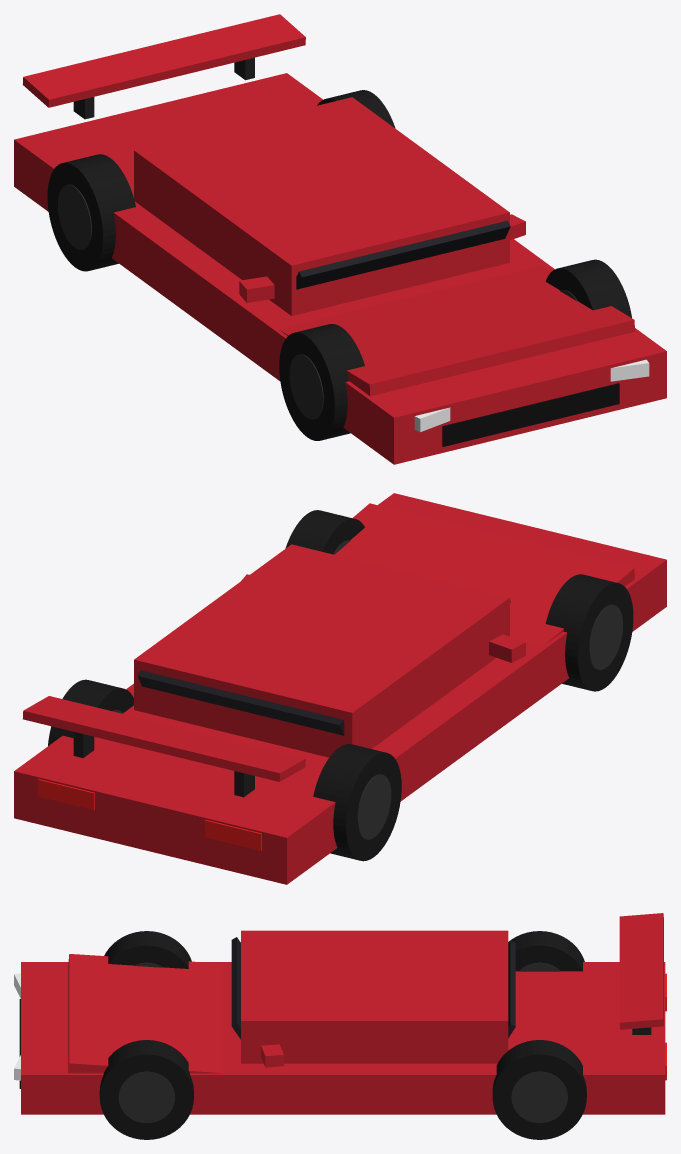
Rendered from ai_parts_bc648e.glb.
3 views of the same model, one above another, from view 1: azimuth 30°, elevation 25°; view 2: azimuth 150°, elevation 25°; view 3: azimuth 270°, elevation 25° (orthographic). The views are drawn at different scales.
Visible parts, largest first — view 1: 02_cabin_roof, 00_main_body, 01_hood_slope, 13_spoiler_wing, 07_rear_left_wheel, 05_front_left_wheel, 03_windshield, 16_front_grille, 06_front_right_wheel, 09_front_left_rim, 11_rear_left_rim, 08_rear_right_wheel (+1 smaller); view 2: 02_cabin_roof, 00_main_body, 01_hood_slope, 13_spoiler_wing, 07_rear_left_wheel, 05_front_left_wheel, 04_rear_window, 06_front_right_wheel, 08_rear_right_wheel, 11_rear_left_rim, 09_front_left_rim, 19_left_taillight (+2 smaller); view 3: 00_main_body, 02_cabin_roof, 01_hood_slope, 08_rear_right_wheel, 06_front_right_wheel, 13_spoiler_wing, 05_front_left_wheel, 12_rear_right_rim, 10_front_right_rim, 07_rear_left_wheel, 03_windshield, 04_rear_window (+1 smaller).
Part boxes in pixels (bbox=[...]): 02_cabin_roof: bbox=[134, 97, 509, 315]; 00_main_body: bbox=[14, 73, 666, 464]; 01_hood_slope: bbox=[279, 265, 634, 396]; 13_spoiler_wing: bbox=[22, 14, 305, 107]; 07_rear_left_wheel: bbox=[47, 154, 135, 271]; 05_front_left_wheel: bbox=[279, 324, 364, 440]; 03_windshield: bbox=[296, 220, 510, 289]; 16_front_grille: bbox=[442, 383, 619, 446]; 06_front_right_wheel: bbox=[545, 259, 631, 317]; 09_front_left_rim: bbox=[289, 354, 323, 419]; 11_rear_left_rim: bbox=[58, 184, 91, 249]; 08_rear_right_wheel: bbox=[317, 90, 395, 128]; 02_cabin_roof: bbox=[134, 544, 509, 757]; 00_main_body: bbox=[14, 493, 666, 884]; 01_hood_slope: bbox=[334, 503, 634, 645]; 13_spoiler_wing: bbox=[23, 696, 305, 781]; 07_rear_left_wheel: bbox=[313, 744, 401, 861]; 05_front_left_wheel: bbox=[545, 574, 633, 691]; 04_rear_window: bbox=[138, 670, 344, 735]; 06_front_right_wheel: bbox=[285, 510, 364, 554]; 08_rear_right_wheel: bbox=[48, 679, 133, 745]; 11_rear_left_rim: bbox=[357, 774, 391, 839]; 09_front_left_rim: bbox=[589, 604, 622, 669]; 19_left_taillight: bbox=[205, 820, 261, 850]; 00_main_body: bbox=[21, 962, 665, 1114]; 02_cabin_roof: bbox=[241, 930, 508, 1063]; 01_hood_slope: bbox=[68, 954, 223, 1073]; 08_rear_right_wheel: bbox=[492, 1040, 586, 1139]; 06_front_right_wheel: bbox=[99, 1040, 193, 1139]; 13_spoiler_wing: bbox=[619, 913, 663, 1029]; 05_front_left_wheel: bbox=[104, 931, 191, 968]; 12_rear_right_rim: bbox=[511, 1071, 567, 1123]; 10_front_right_rim: bbox=[118, 1071, 174, 1123]; 07_rear_left_wheel: bbox=[508, 931, 584, 971]; 03_windshield: bbox=[231, 937, 240, 1039]; 04_rear_window: bbox=[508, 940, 515, 1037].
Size of the model in its own units: 187 by 78.71 by 416.
